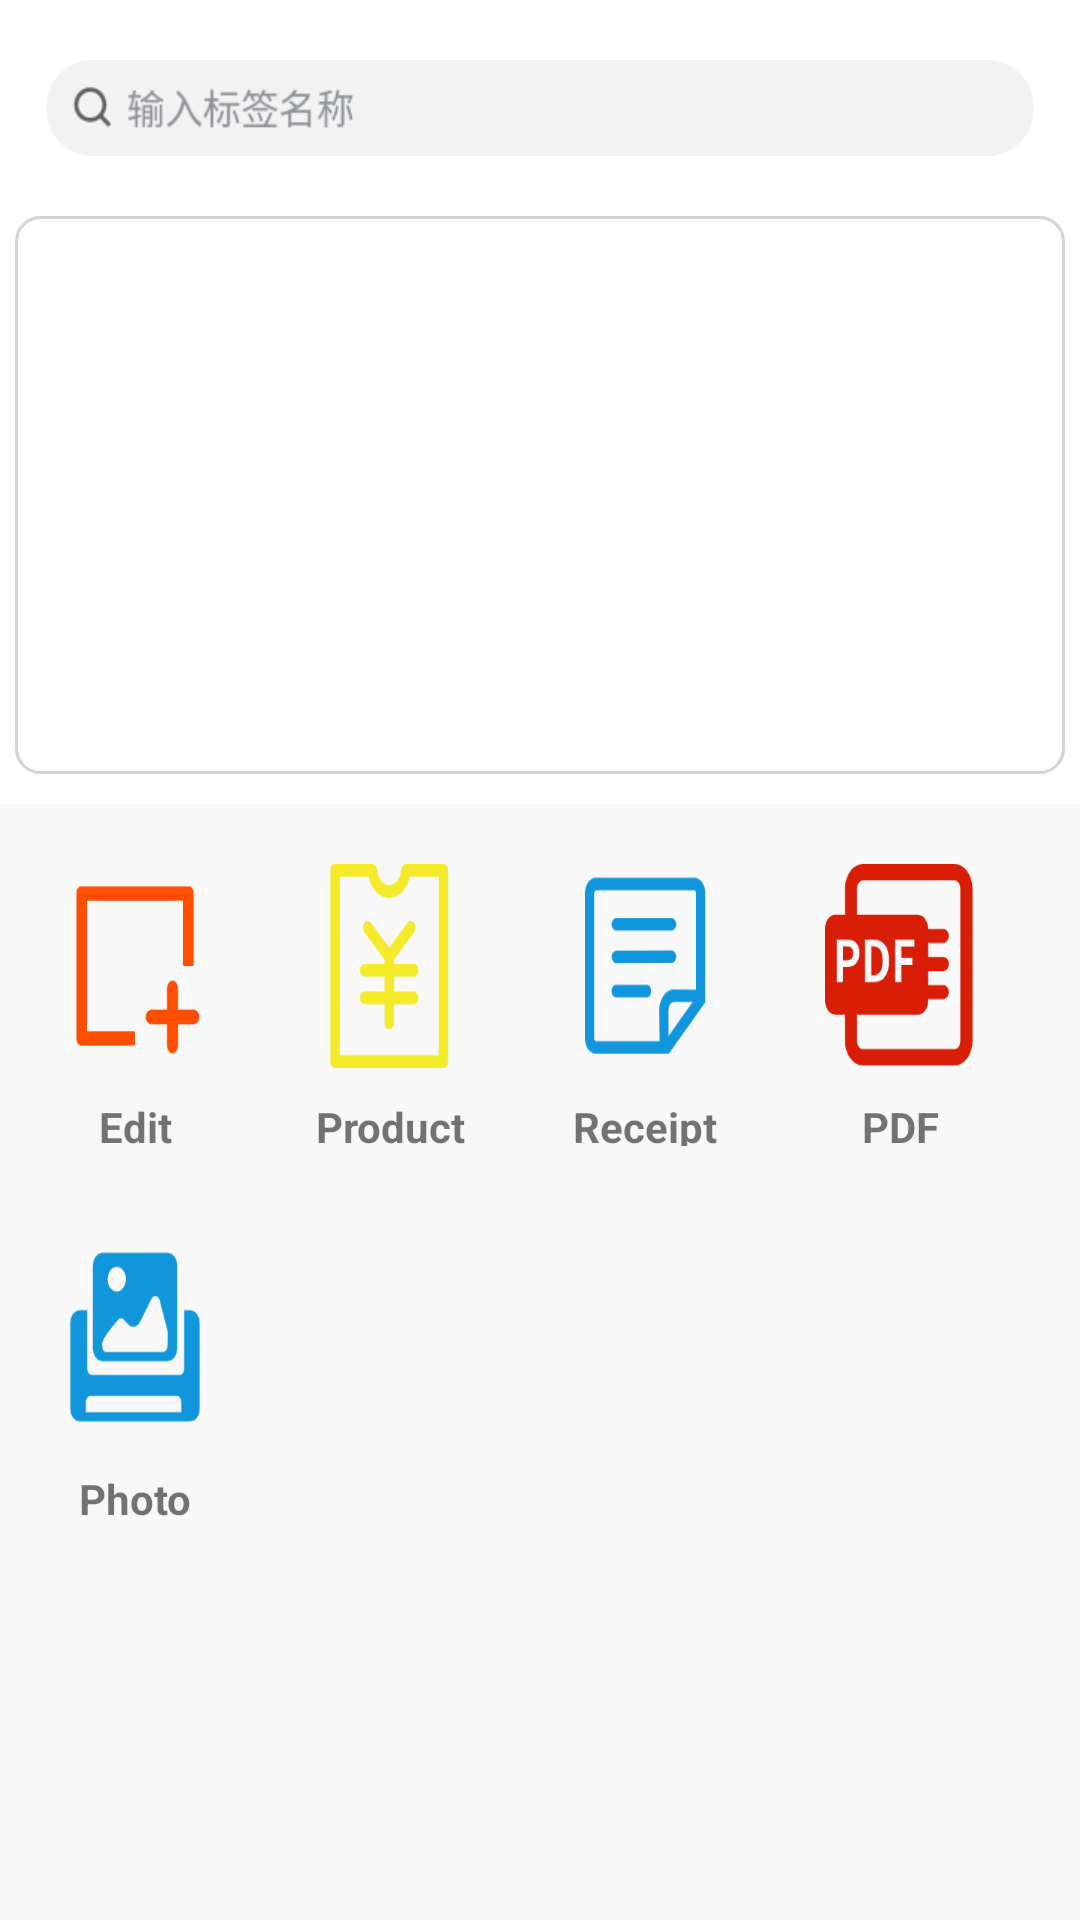

Icons on this 1080w x 1920h Android screen, each with its box as (x1, y1, x2, y2):
home picture: (70, 1252, 200, 1422)
home price: (330, 864, 449, 1068)
